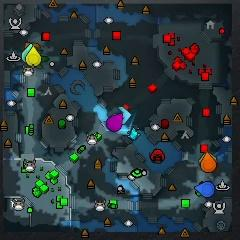p1: (194, 181, 214, 198)
p2: (21, 43, 33, 63)
p3: (106, 113, 123, 132)
p4: (26, 46, 40, 66)
p5: (201, 152, 216, 173)
x2: (199, 153, 216, 162)
x3: (117, 106, 131, 124)
x4: (36, 50, 49, 69)
x5: (24, 42, 40, 49)
